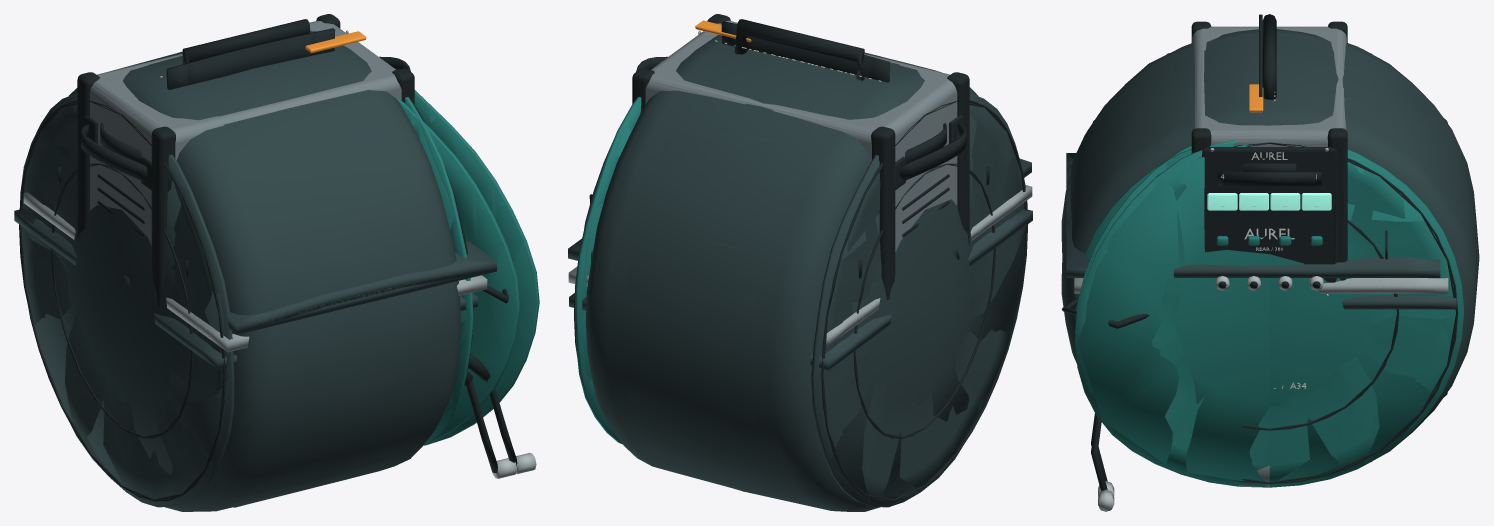
The model's file is aurel-tyre-blankets-and-controllers.glb.
3 views of the same model, side by side, from view 1: azimuth 30°, elevation 25°; view 2: azimuth 150°, elevation 25°; view 3: azimuth 270°, elevation 25° (orthographic). The views are drawn at different scales.
Visible parts, largest first — view 1: A34_REAR_FITTED_L0_A34_ThermalFabric, A34_REAR_FITTED_L2_A34_ThermalFabric, A34_FRONT_FITTED_L0_A34_ThermalFabric, A34_CONTROLLER_MAIN_L0_A34_ControllerShell, A34_REAR_FITTED_L1_A34_ThermalFabric, A34_CONTROLLER_MAIN_L0_A34_CableRubber, A34_REAR_FITTED_L0_A34_WebbingAndSeams, A34_FRONT_OPEN_L0_A34_ReinforcedPanels, A34_FOLDED_LOOSE_L0_A34_ThermalFabric, A34_REAR_OPEN_L0_A34_ReinforcedPanels, A34_FRONT_OPEN_L1_A34_ReinforcedPanels, A34_FRONT_FITTED_L0_A34_WebbingAndSeams (+15 smaller); view 2: A34_REAR_FITTED_L0_A34_ThermalFabric, A34_REAR_FITTED_L2_A34_ThermalFabric, A34_FRONT_FITTED_L0_A34_ThermalFabric, A34_CONTROLLER_MAIN_L0_A34_ControllerShell, A34_REAR_FITTED_L1_A34_ThermalFabric, A34_CONTROLLER_MAIN_L0_A34_CableRubber, A34_REAR_FITTED_L0_A34_WebbingAndSeams, A34_REAR_FITTED_L1_A34_WebbingAndSeams, A34_REAR_FITTED_L0_A34_ReinforcedPanels, A34_FRONT_FITTED_L0_A34_WebbingAndSeams, A34_FOLDED_LOOSE_L0_A34_ThermalFabric, A34_FOLDED_LOOSE_L0_A34_InsulatedLining (+5 smaller); view 3: A34_REAR_OPEN_L2_A34_ReinforcedPanels, A34_REAR_FITTED_L0_A34_ThermalFabric, A34_REAR_FITTED_L2_A34_ReinforcedPanels, A34_REAR_FITTED_L0_A34_ReinforcedPanels, A34_CONTROLLER_MAIN_L0_A34_CableRubber, A34_REAR_FITTED_L1_A34_ReinforcedPanels, A34_FRONT_FITTED_L0_A34_ThermalFabric, A34_FOLDED_LOOSE_L0_A34_ThermalFabric, A34_CONTROLLER_MAIN_L0_A34_ControllerShell, A34_REAR_OPEN_L0_A34_ReinforcedPanels, A34_REAR_OPEN_L1_A34_ReinforcedPanels, A34_REAR_FITTED_L0_A34_WebbingAndSeams (+13 smaller).
Part boxes in pixels (x1,y1,x2,y2): A34_REAR_FITTED_L0_A34_ThermalFabric: [20, 31, 460, 511]; A34_REAR_FITTED_L2_A34_ThermalFabric: [25, 96, 440, 509]; A34_FRONT_FITTED_L0_A34_ThermalFabric: [149, 55, 423, 507]; A34_CONTROLLER_MAIN_L0_A34_ControllerShell: [90, 20, 401, 246]; A34_REAR_FITTED_L1_A34_ThermalFabric: [21, 99, 230, 507]; A34_CONTROLLER_MAIN_L0_A34_CableRubber: [77, 14, 414, 306]; A34_REAR_FITTED_L0_A34_WebbingAndSeams: [19, 28, 472, 501]; A34_FRONT_OPEN_L0_A34_ReinforcedPanels: [397, 98, 520, 444]; A34_FOLDED_LOOSE_L0_A34_ThermalFabric: [14, 210, 496, 369]; A34_REAR_OPEN_L0_A34_ReinforcedPanels: [414, 90, 539, 445]; A34_FRONT_OPEN_L1_A34_ReinforcedPanels: [429, 131, 516, 365]; A34_FRONT_FITTED_L0_A34_WebbingAndSeams: [100, 34, 315, 163]; A34_REAR_FITTED_L0_A34_ThermalFabric: [586, 35, 1027, 511]; A34_REAR_FITTED_L2_A34_ThermalFabric: [605, 111, 1025, 509]; A34_FRONT_FITTED_L0_A34_ThermalFabric: [626, 52, 914, 502]; A34_CONTROLLER_MAIN_L0_A34_ControllerShell: [645, 20, 957, 252]; A34_REAR_FITTED_L1_A34_ThermalFabric: [814, 96, 1024, 506]; A34_CONTROLLER_MAIN_L0_A34_CableRubber: [632, 14, 969, 300]; A34_REAR_FITTED_L0_A34_WebbingAndSeams: [574, 21, 1027, 501]; A34_REAR_FITTED_L1_A34_WebbingAndSeams: [823, 101, 1027, 500]; A34_REAR_FITTED_L0_A34_ReinforcedPanels: [575, 97, 641, 444]; A34_FRONT_FITTED_L0_A34_WebbingAndSeams: [746, 35, 946, 163]; A34_FOLDED_LOOSE_L0_A34_ThermalFabric: [568, 158, 1032, 369]; A34_FOLDED_LOOSE_L0_A34_InsulatedLining: [568, 185, 1032, 345]; A34_REAR_OPEN_L2_A34_ReinforcedPanels: [1077, 143, 1269, 485]; A34_REAR_FITTED_L0_A34_ThermalFabric: [1061, 29, 1479, 466]; A34_REAR_FITTED_L2_A34_ReinforcedPanels: [1269, 156, 1460, 485]; A34_REAR_FITTED_L0_A34_ReinforcedPanels: [1075, 149, 1464, 487]; A34_CONTROLLER_MAIN_L0_A34_CableRubber: [1191, 14, 1347, 288]; A34_REAR_FITTED_L1_A34_ReinforcedPanels: [1075, 152, 1463, 487]; A34_FRONT_FITTED_L0_A34_ThermalFabric: [1061, 42, 1474, 285]; A34_FOLDED_LOOSE_L0_A34_ThermalFabric: [1066, 153, 1456, 309]; A34_CONTROLLER_MAIN_L0_A34_ControllerShell: [1192, 26, 1346, 146]; A34_REAR_OPEN_L0_A34_ReinforcedPanels: [1075, 136, 1269, 487]; A34_REAR_OPEN_L1_A34_ReinforcedPanels: [1075, 140, 1269, 487]; A34_REAR_FITTED_L0_A34_WebbingAndSeams: [1156, 14, 1458, 483].
Bounding box in the file's own units: 0.644 × 0.7656 × 0.7154.
